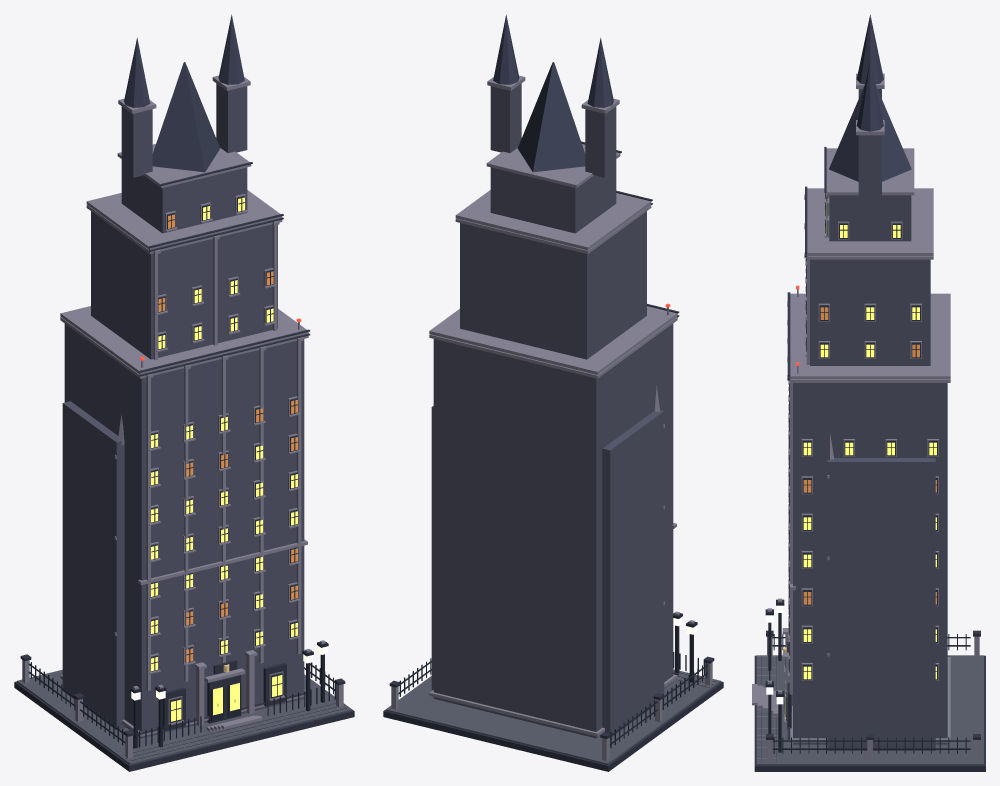
File: account_building_08.glb
The picture shows the model from 3 angles, left to right: view 1: azimuth 30°, elevation 25°; view 2: azimuth 150°, elevation 25°; view 3: azimuth 270°, elevation 25°; orthographic projection.
Visible parts, largest first — view 1: SM_Account_Building_08; view 2: SM_Account_Building_08; view 3: SM_Account_Building_08.
Boxes of the visible parts, bbox=[...] form: SM_Account_Building_08: bbox=[14, 14, 354, 771]; SM_Account_Building_08: bbox=[383, 14, 723, 771]; SM_Account_Building_08: bbox=[752, 15, 985, 771].
Bounding box in the file's own units: 13 × 37.32 × 11.63.
